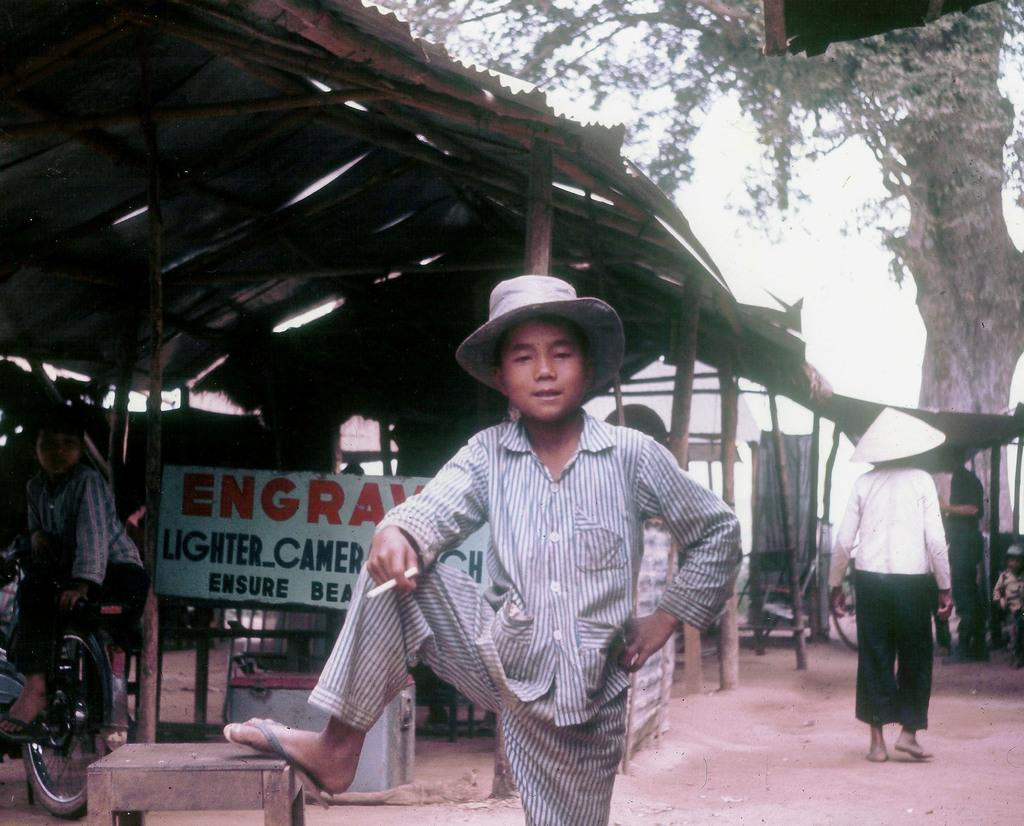Hat: (456, 276, 624, 398), (855, 404, 947, 465), (604, 400, 664, 446)
